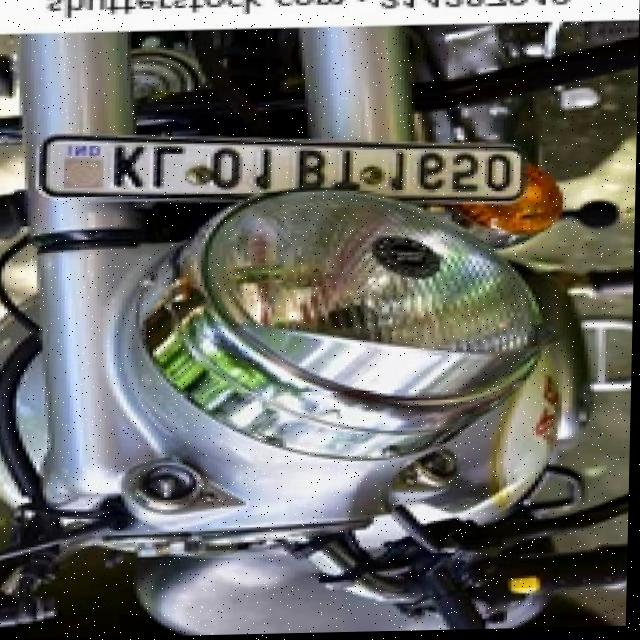plate: (39, 130, 526, 217)
